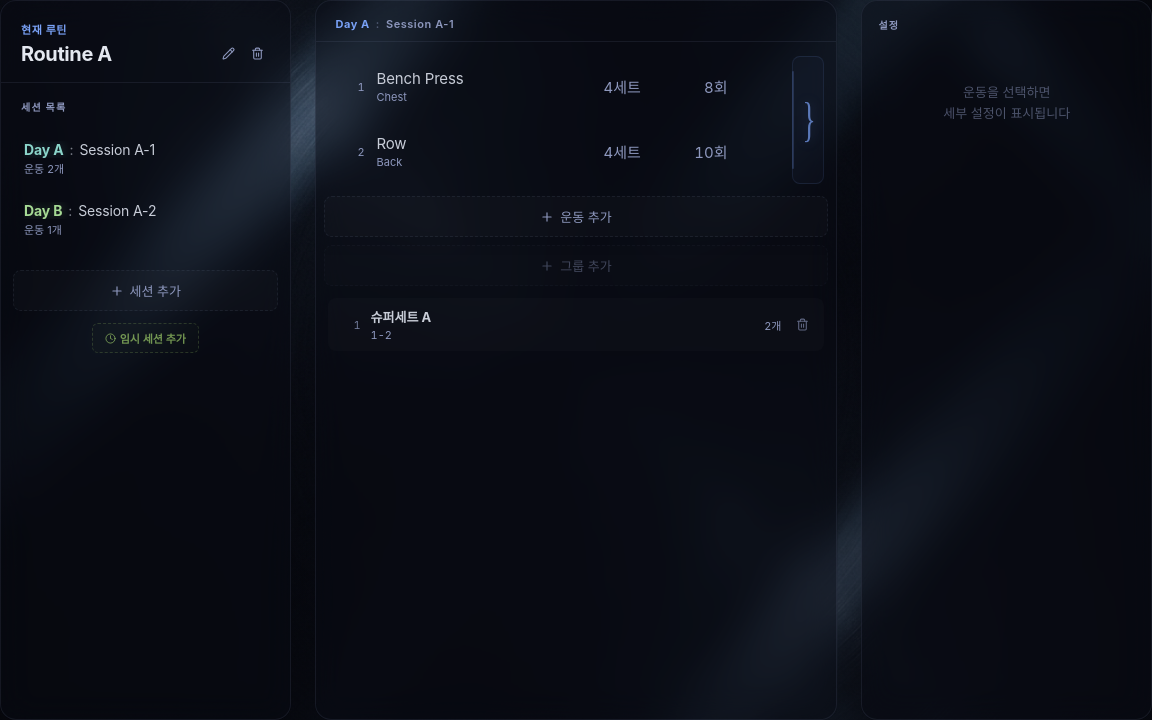
it: RoutineDetail Component › focused group management rows show group settings
The width and height of the screenshot is (1152, 720).
Click the text "Bench Press" at (420, 78), box x1=376 y1=69 x2=464 y2=88
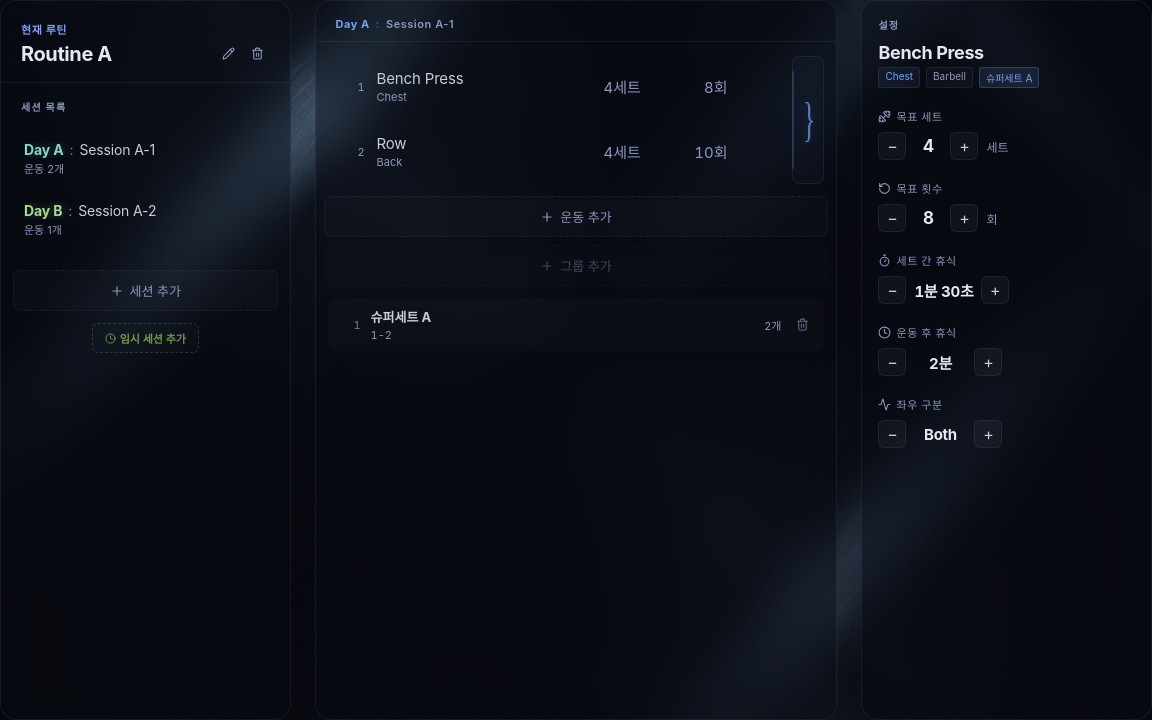
Check: the number field named "세트 값" reads "4", box x1=923 y1=136 x2=934 y2=156
Focus the text "슈퍼세트 A" at (576, 324), box x1=328 y1=298 x2=824 y2=351
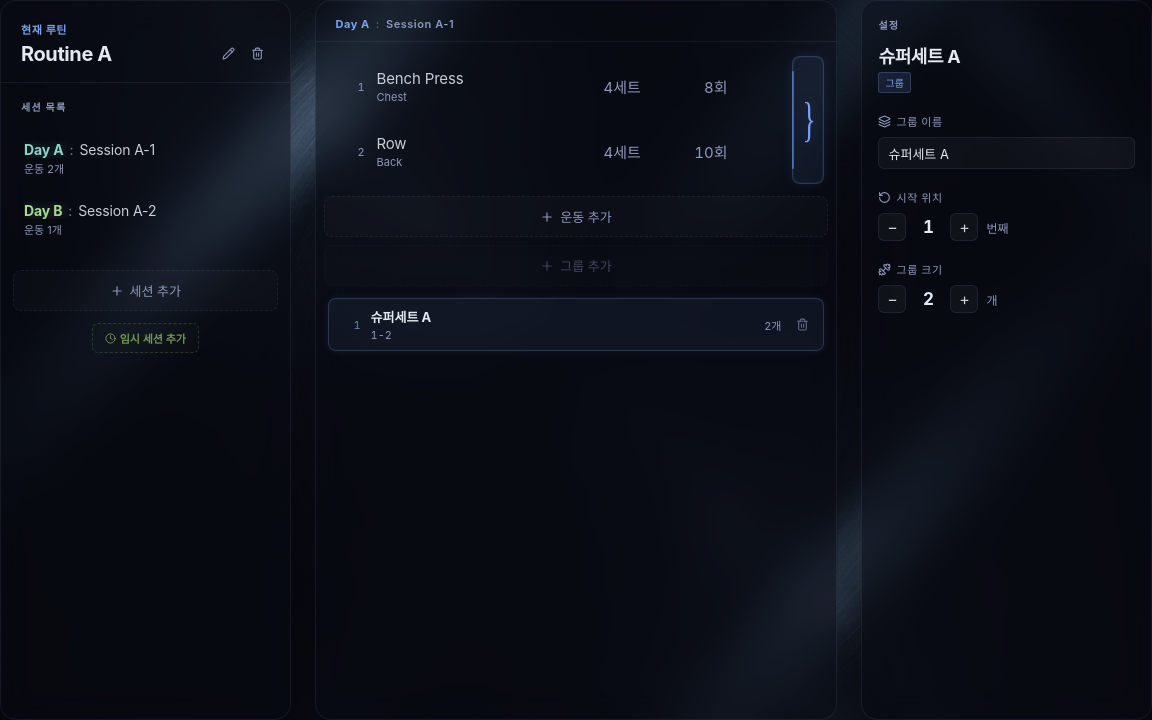
Check: the field showing "슈퍼세트 A" is shown, box x1=878 y1=137 x2=1135 y2=169
Check: the text "그룹 이름" is shown, box x1=878 y1=114 x2=943 y2=129
